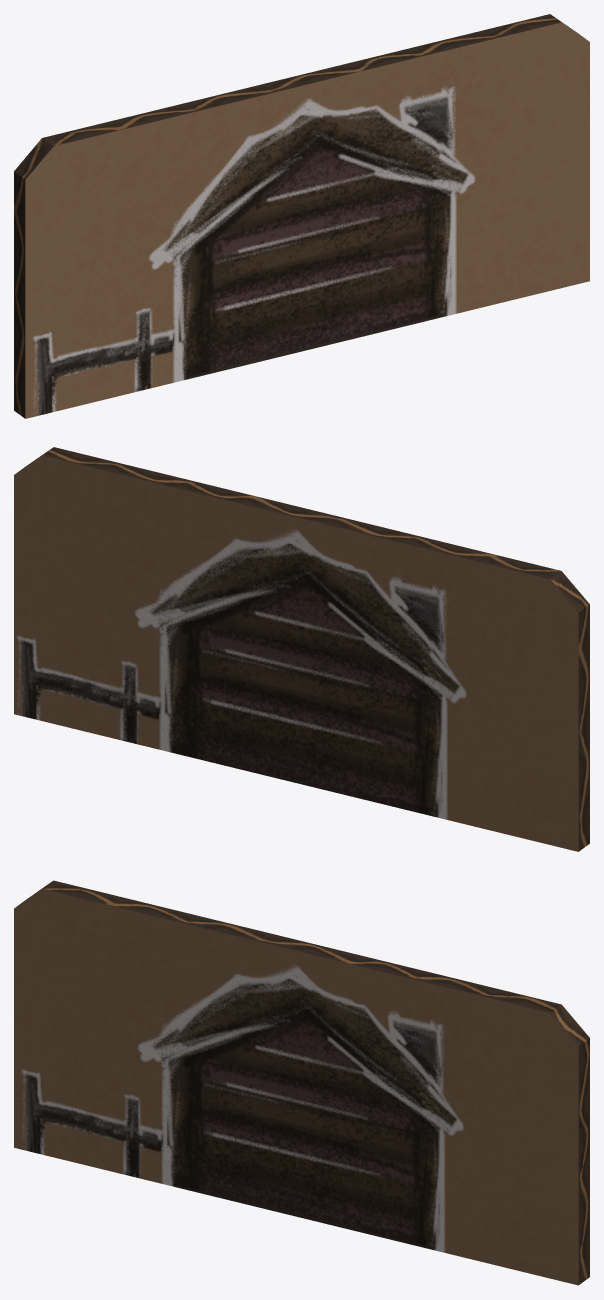
Rendered from Tentshack.fbx.
3 views of the same model, one above another, from view 1: azimuth 30°, elevation 25°; view 2: azimuth 150°, elevation 25°; view 3: azimuth 330°, elevation 25° (orthographic).
Parts seen in each view (by area): view 1: TentShack; view 2: TentShack; view 3: TentShack.
Boxes of the visible parts, x1,y1,x2,y2 form: TentShack: [14, 14, 589, 418]; TentShack: [14, 447, 589, 851]; TentShack: [14, 880, 589, 1285].
Size of the model in its own units: 6 by 2.7 by 0.2111.
